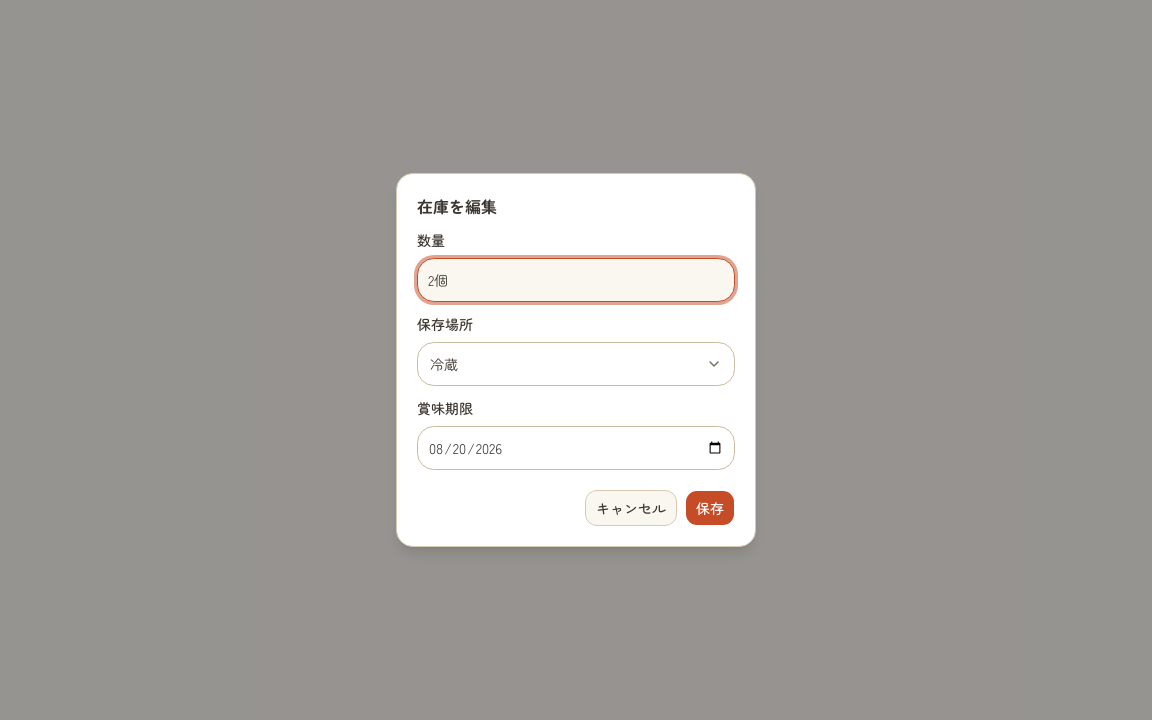
it: StockEditDialog › SED-07: 数量0以下はクライアントで拒否し PUT しない
The image size is (1152, 720).
Replace the text in the field showing "2個" with "0個" at (576, 280), box [417,258,735,302]
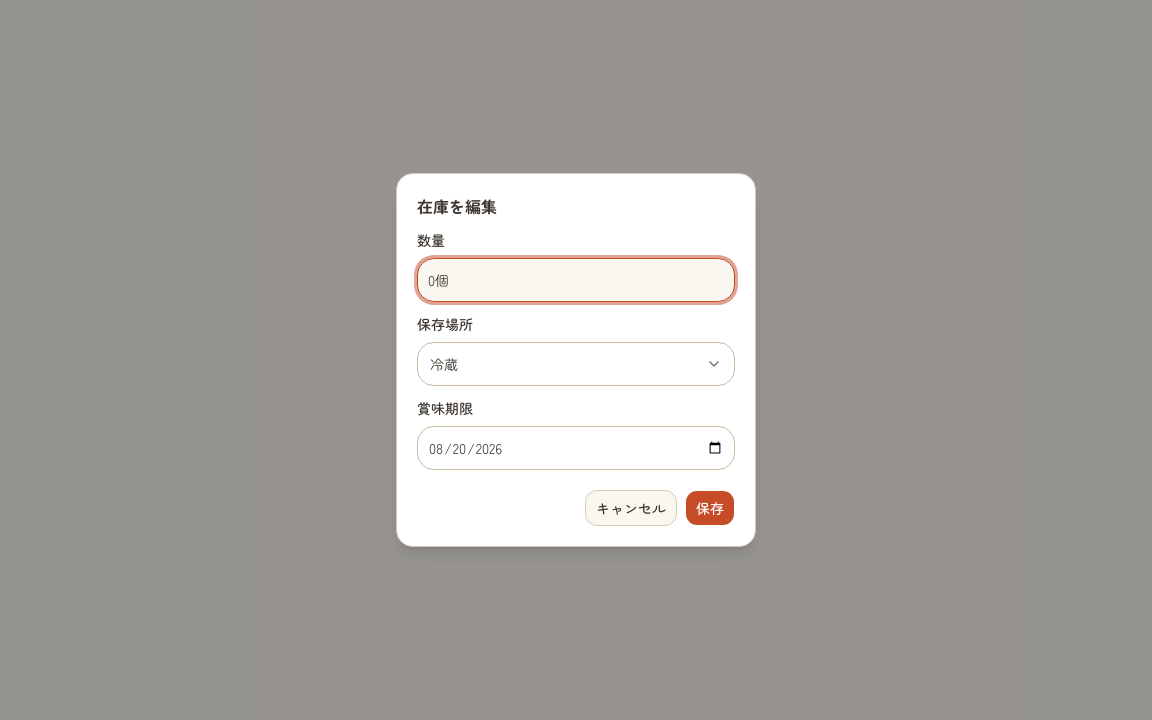
Click the button "保存" at (710, 508), box [685,490,735,526]
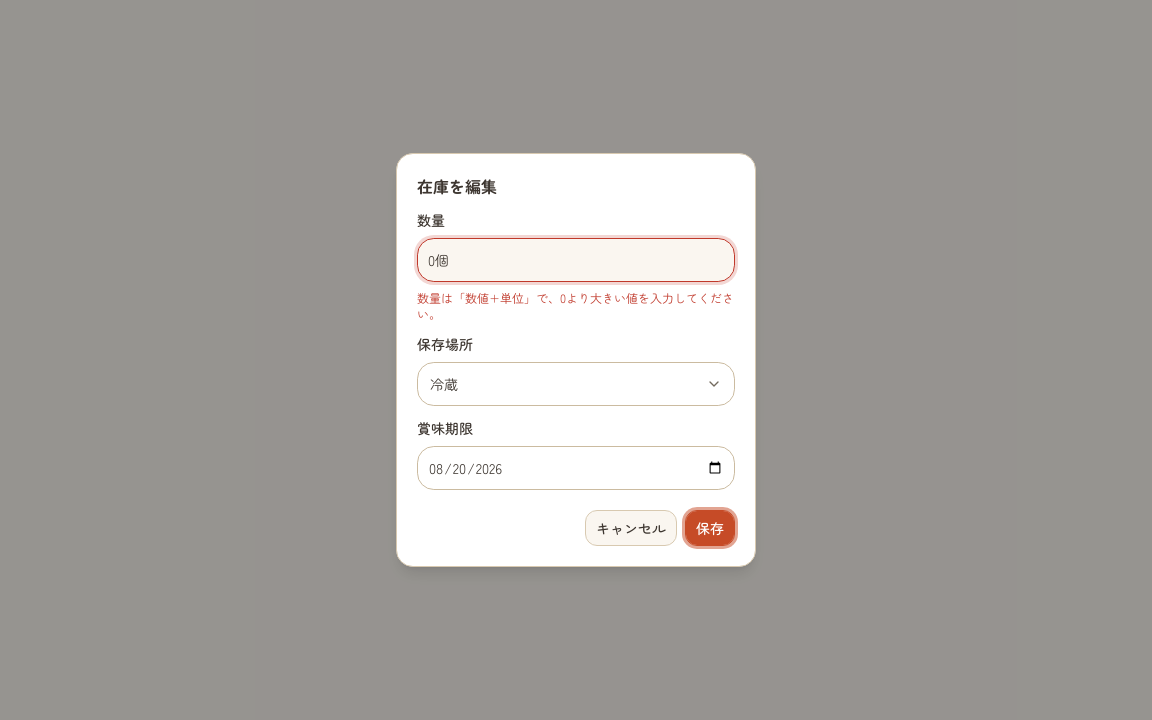
Now the text "数量は「数値+単位」で、0より大きい値を入力してください。" is shown, box [417,290,735,322]
